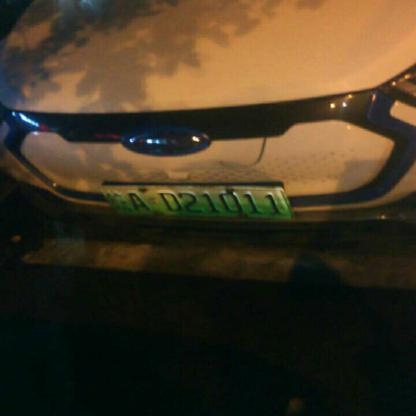lp: (98, 186, 293, 218)
